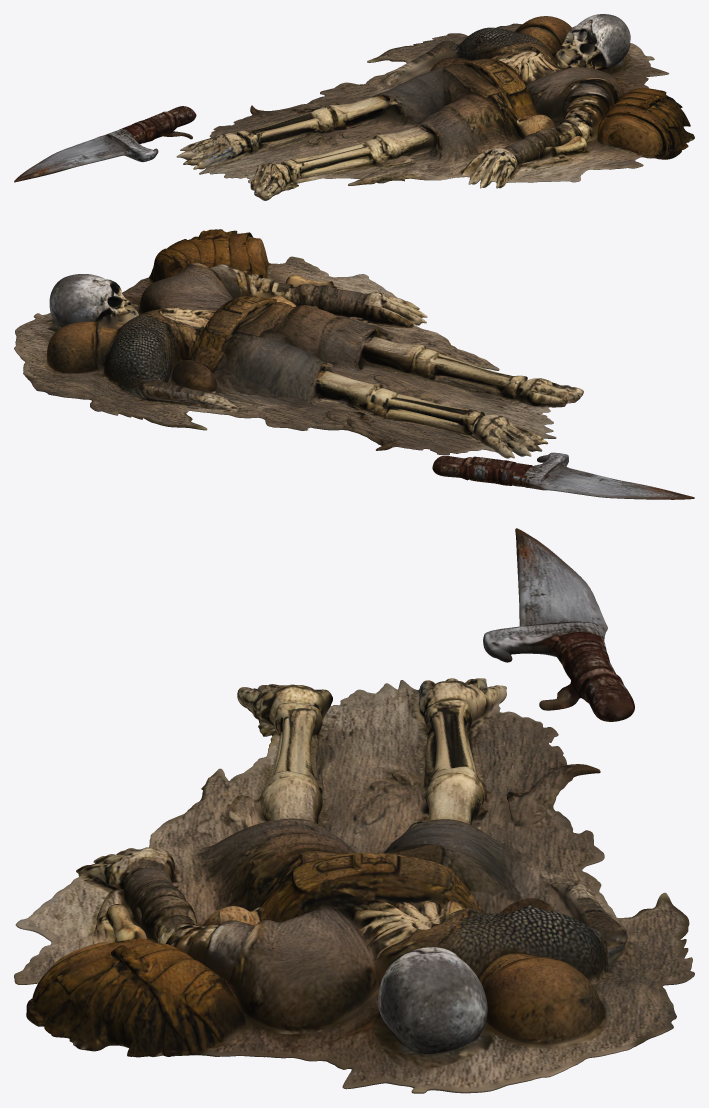
Rendered from skeleton_corpse.glb.
3 views of the same model, one above another, from view 1: azimuth 30°, elevation 25°; view 2: azimuth 150°, elevation 25°; view 3: azimuth 270°, elevation 25° (orthographic). The views are drawn at different scales.
Visible parts, largest first — view 1: material; view 2: material; view 3: material.
Part boxes in pixels (<box>): material: <box>14,14,694,200</box>; material: <box>14,229,694,499</box>; material: <box>14,528,694,1093</box>.
Size of the model in its own units: 1.16 by 0.0975 by 0.6061.
Materials: 1 (1 with a texture image).
